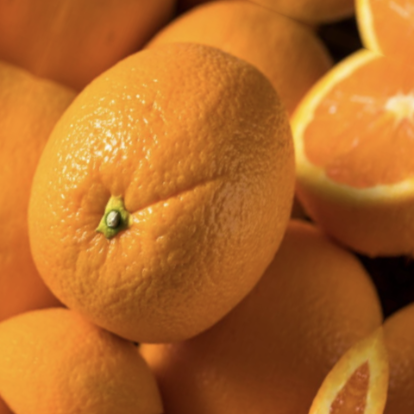orange: (0, 0, 359, 398)
